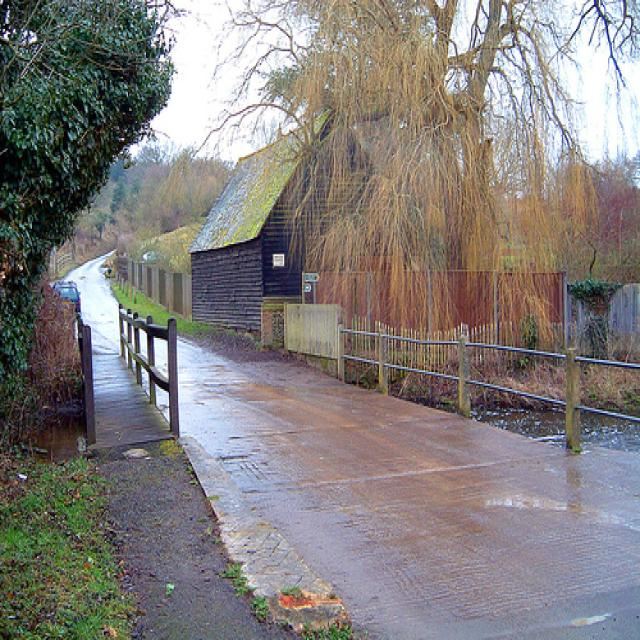car: (51, 279, 82, 315)
